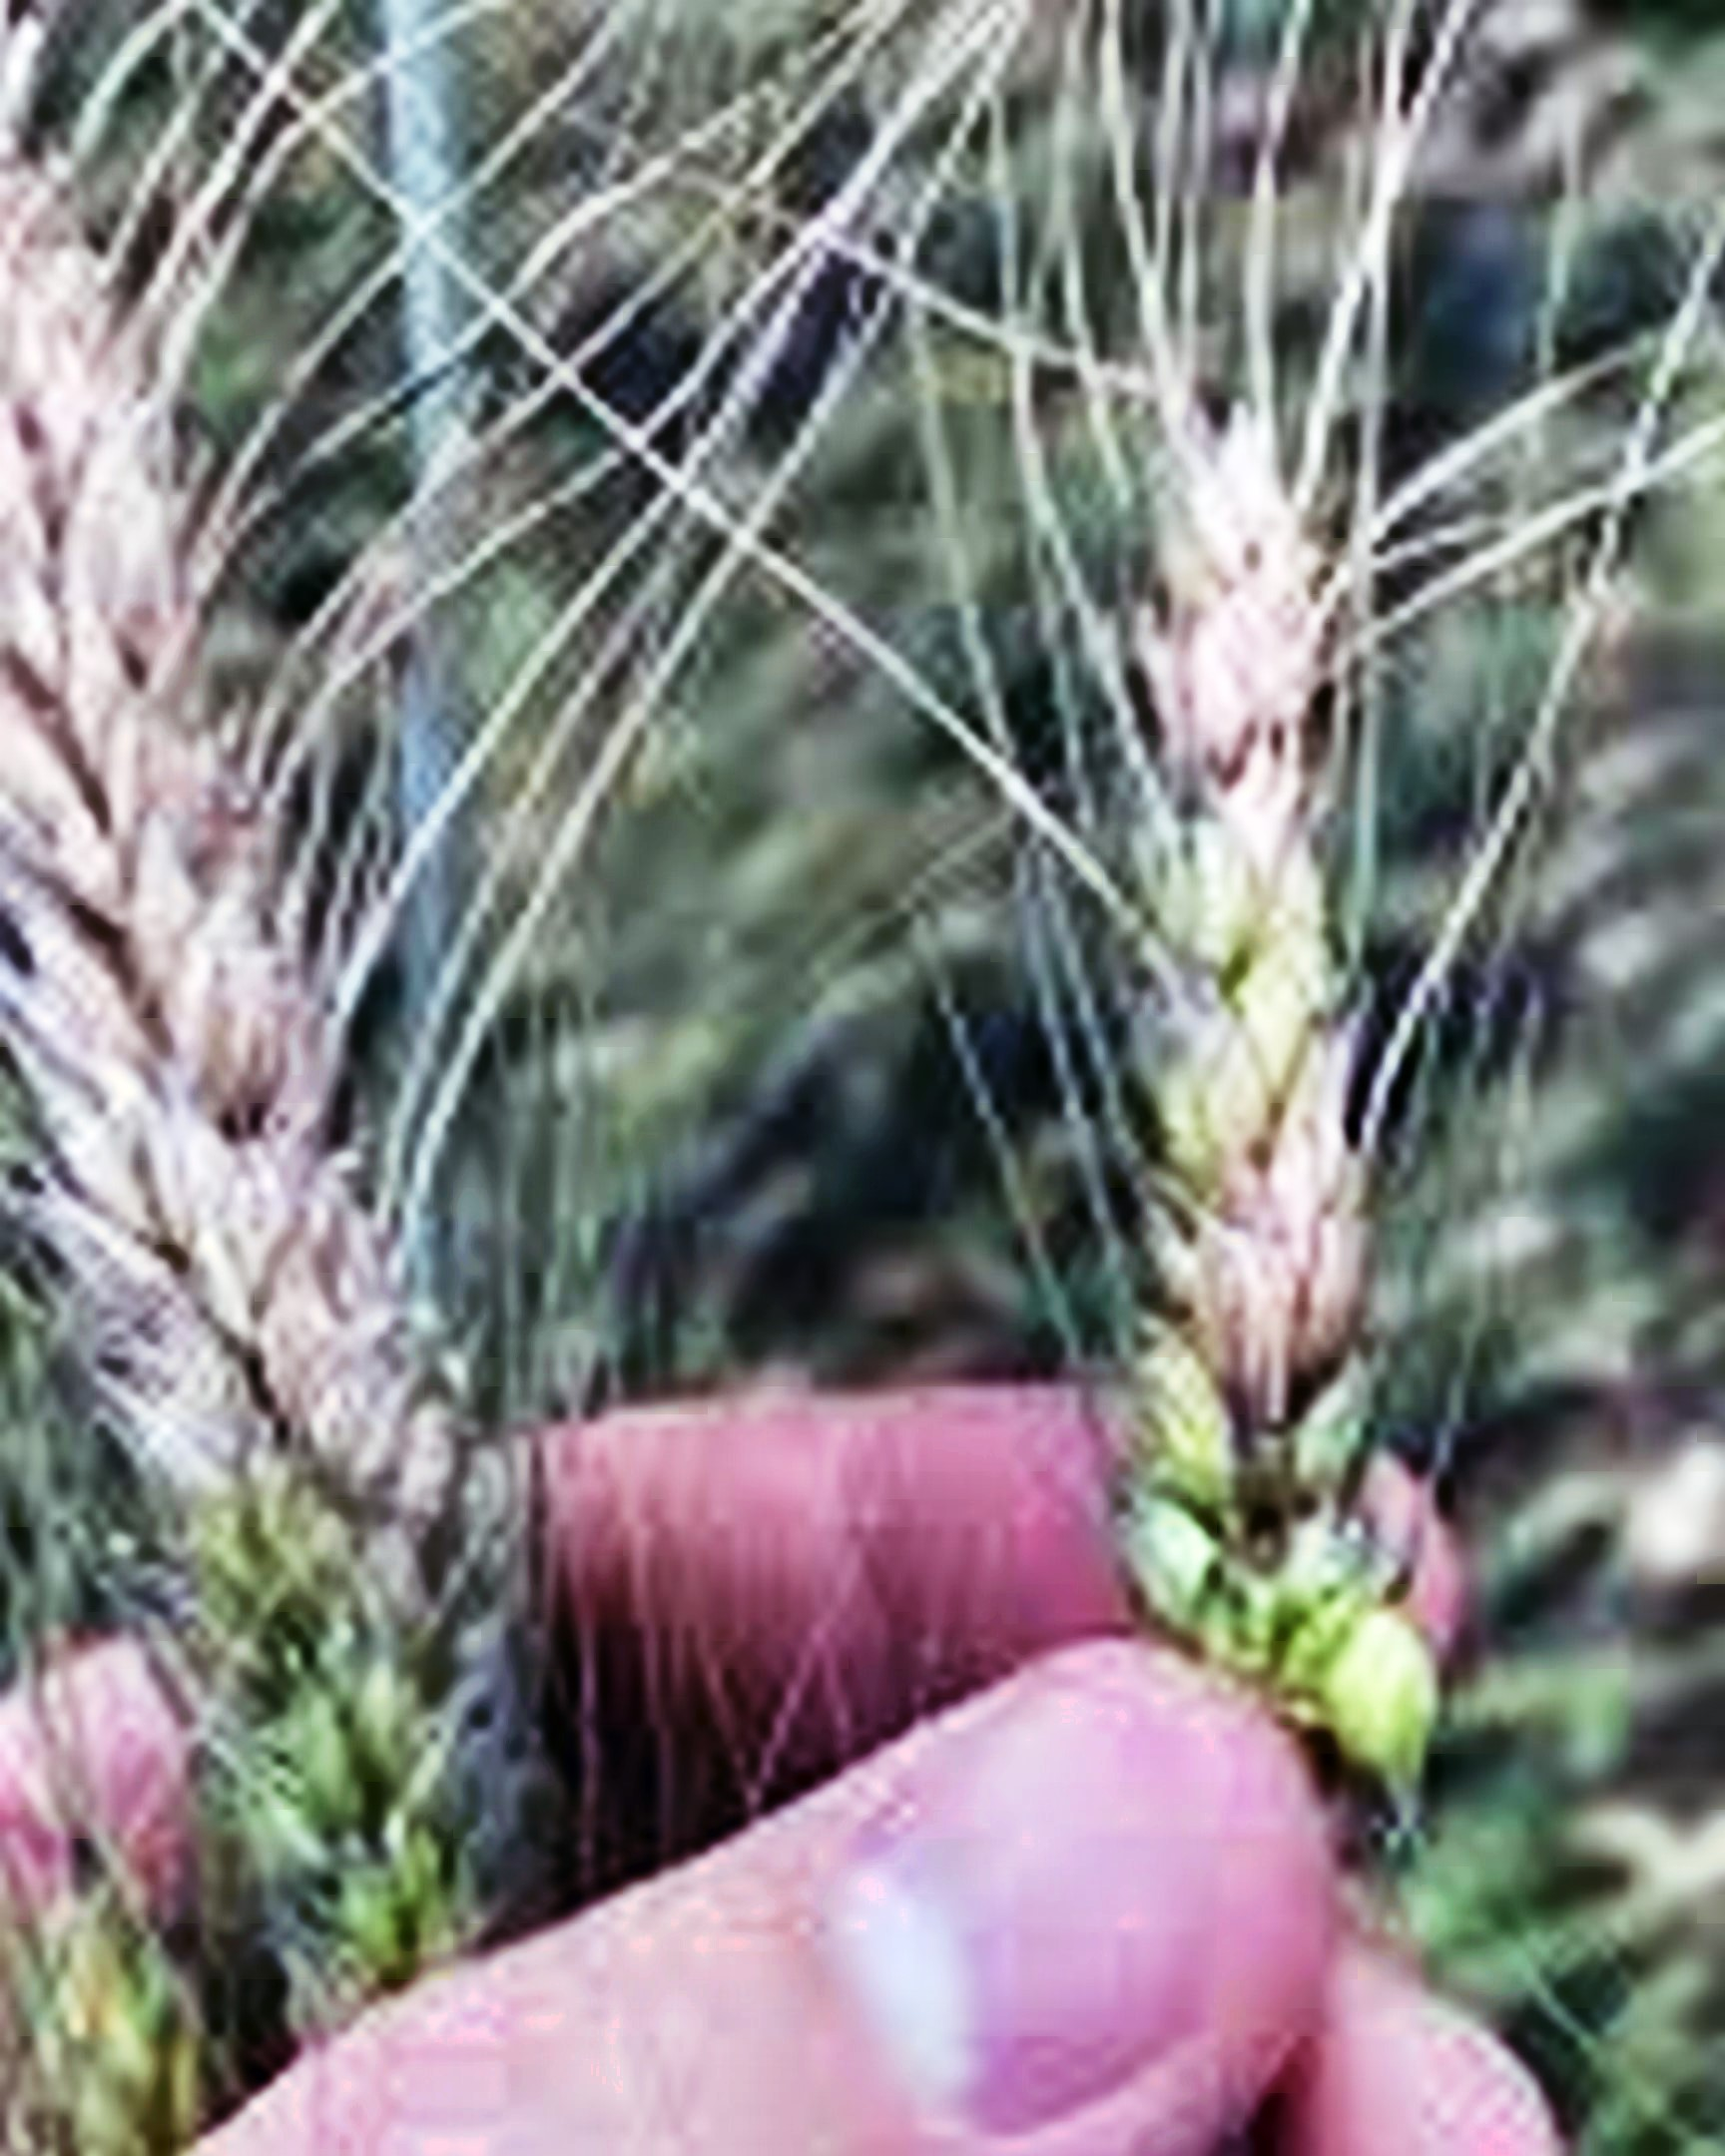Wheat scab: (1083, 400, 1477, 1667)
